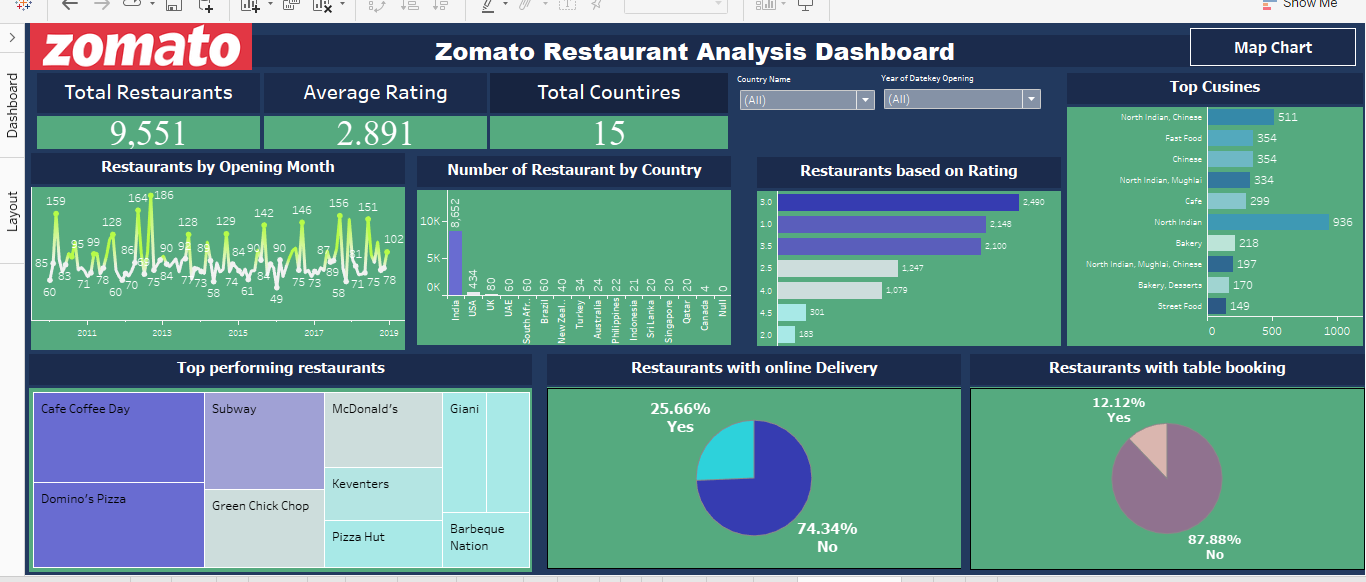

The dashboard page shown, as its layout file describes it:
{"tool":"tableau","page":{"name":"Dashboard 1","canvas":[1000,1000],"units":"permille","ordinal":0},"visuals":[{"type":"dashboard-object","box":[869.4,9.1,123.9,68.8]},{"type":"title","box":[6,14.5,988.1,72.5]},{"type":"text","box":[874.6,87,119.4,32.6]},{"type":"filter","title":"1","param":"[federated.1c66vmg1hbwwpp16xe0wp0gmyl41].[yr:Datekey_Opening:ok]","box":[638.8,88.8,121.6,132.2]},{"type":"worksheet","title":"KPI 1","mark":"Automatic","box":[9.1,90,166.6,138.1]},{"type":"worksheet","title":"KPI 2 ","mark":"Automatic","box":[178,90,166.6,138.1]},{"type":"worksheet","title":"KPI 3","mark":"Automatic","box":[347,90,177.4,138.1]},{"type":"filter","title":"1","param":"[federated.1c66vmg1hbwwpp16xe0wp0gmyl41].[none:country name:nk]","box":[531.3,90.6,105.2,135.9]},{"type":"worksheet","title":"CUSINES","mark":"Automatic","rows":["Cuisines"],"cols":["RestaurantID"],"box":[777.5,90.6,220.8,496.4]},{"type":"worksheet","title":"AVG","mark":"Bar","rows":["RestaurantID"],"cols":["country name"],"box":[289.2,233.7,240.7,356.9]},{"type":"worksheet","title":"RM","mark":"Automatic","rows":["RestaurantID"],"cols":["opening date"],"box":[4.2,236,279.4,357.1]},{"type":"worksheet","title":"RATING","mark":"Automatic","rows":["Rating (bin)"],"cols":["RestaurantID"],"box":[546.3,242.8,226.8,342.4]},{"type":"worksheet","title":"1","mark":"Automatic","box":[2.7,599.6,376,394.9]},{"type":"worksheet","title":"ONLINE","mark":"Pie","box":[389.3,599.6,309.3,389.5]},{"type":"worksheet","title":"TABLE","mark":"Pie","box":[704.9,599.6,295.1,391.3]}]}

Visuals, with their boxes on the dashboard's canvas, which has no fixed pixel size, in thousandths of its width and height (x1, y1, x2, y2). These are canvas units, not pixel positions in the 1366x582 screenshot, which may show the page scaled, cropped or inside an application window:
dashboard-object: left=869, top=9, right=993, bottom=78
title: left=6, top=14, right=994, bottom=87
text: left=875, top=87, right=994, bottom=120
"1" filter: left=639, top=89, right=760, bottom=221
"KPI 1" worksheet: left=9, top=90, right=176, bottom=228
"KPI 2 " worksheet: left=178, top=90, right=345, bottom=228
"KPI 3" worksheet: left=347, top=90, right=524, bottom=228
"1" filter: left=531, top=91, right=636, bottom=226
"CUSINES" worksheet: left=778, top=91, right=998, bottom=587
"AVG" worksheet (Bar marks): left=289, top=234, right=530, bottom=591
"RM" worksheet: left=4, top=236, right=284, bottom=593
"RATING" worksheet: left=546, top=243, right=773, bottom=585
"1" worksheet: left=3, top=600, right=379, bottom=994
"ONLINE" worksheet (Pie marks): left=389, top=600, right=699, bottom=989
"TABLE" worksheet (Pie marks): left=705, top=600, right=1000, bottom=991
